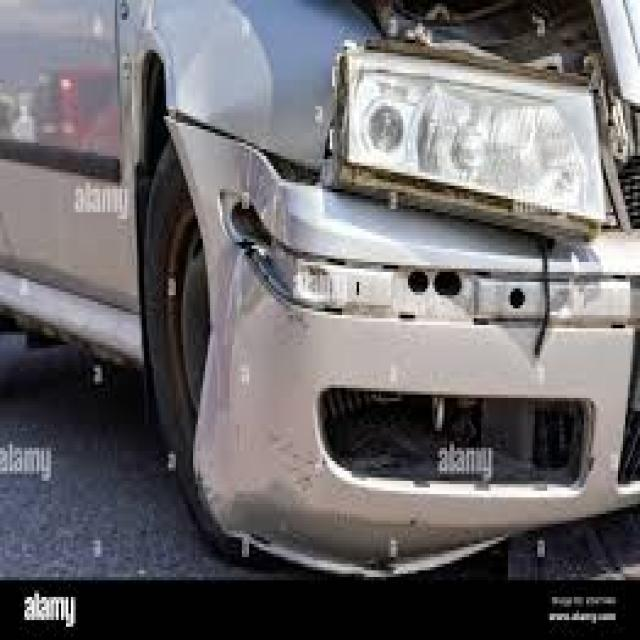damaged-head-light: (334, 16, 616, 208)
